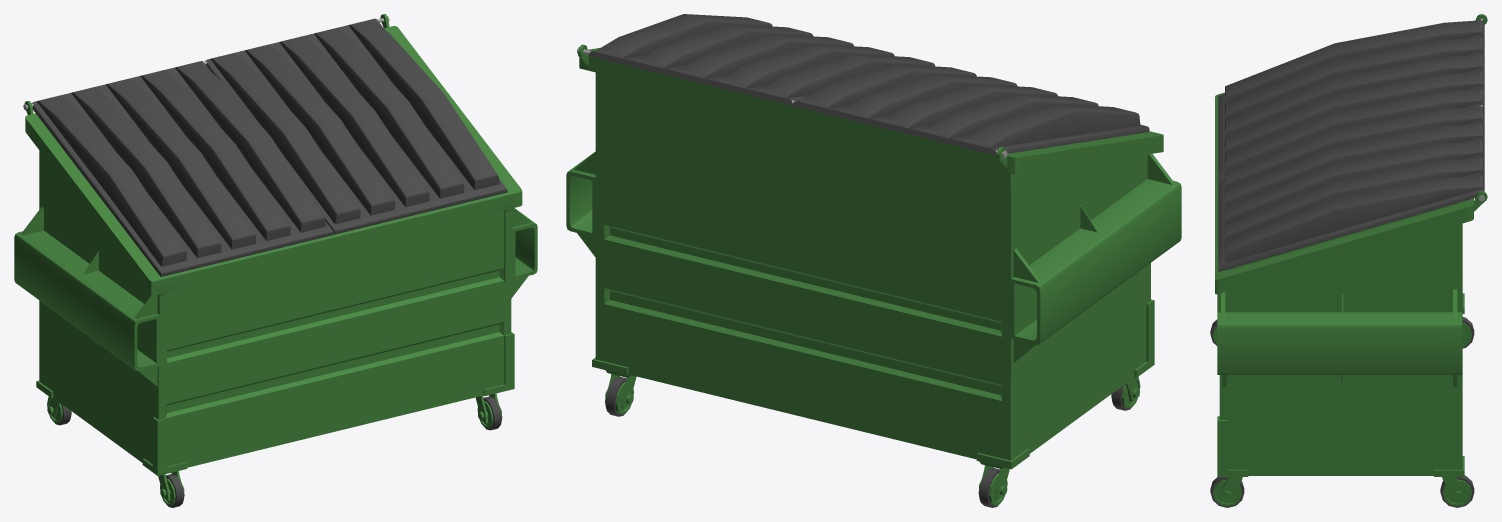
Rendered from TrashContainer.fbx.
3 renders of one model, left to right at view 1: azimuth 30°, elevation 25°; view 2: azimuth 150°, elevation 25°; view 3: azimuth 270°, elevation 25°, orthographic. The views are drawn at different scales.
Visible parts, largest first — view 1: MainBox; view 2: MainBox; view 3: MainBox.
Boxes of the visible parts, x1,y1,x2,y2 form: MainBox: [14, 14, 537, 507]; MainBox: [566, 14, 1181, 507]; MainBox: [1210, 14, 1487, 507].
Size of the model in its own units: 1.46 by 1.1 by 0.8544.
